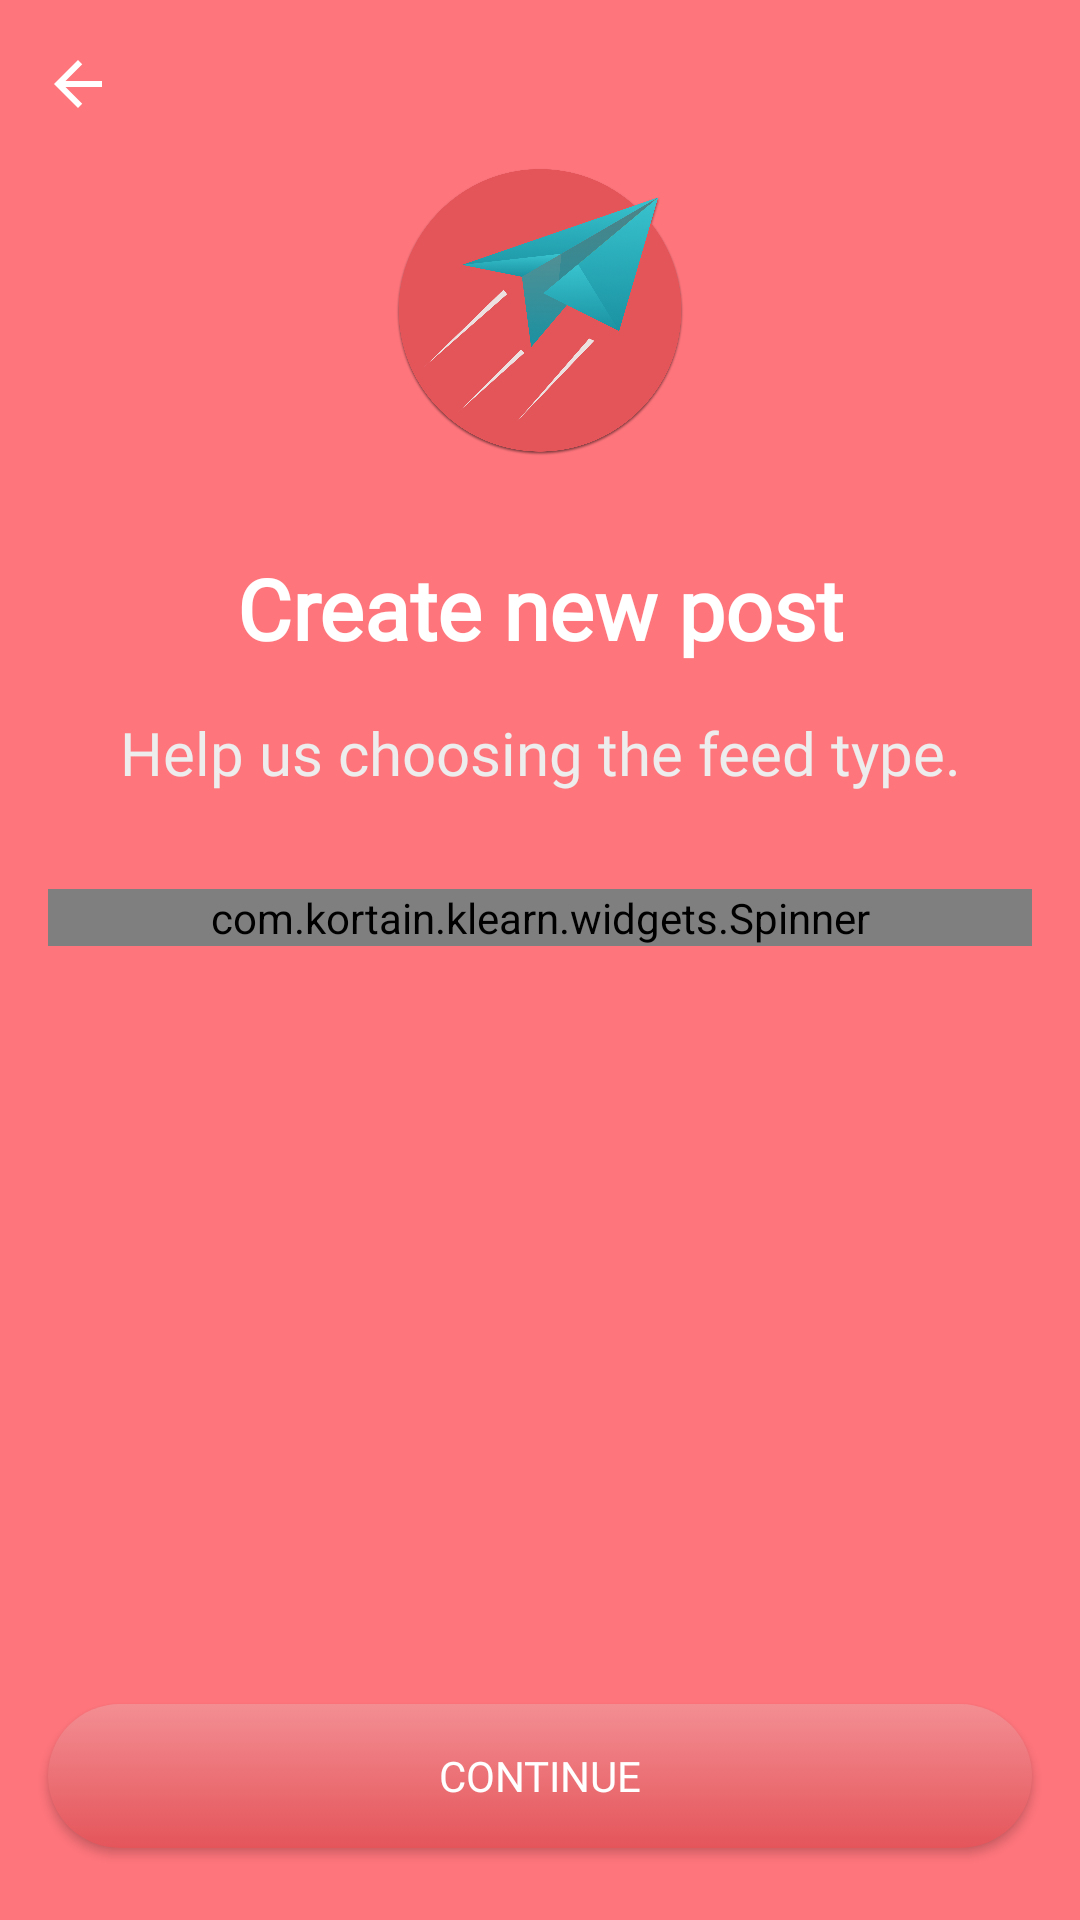

Locate icon controls on the screen. Image size 1080x1920, boxes as [x1,y1,x2,y2].
arrow back: [54,60,102,108]
send: [398,169,682,454]
